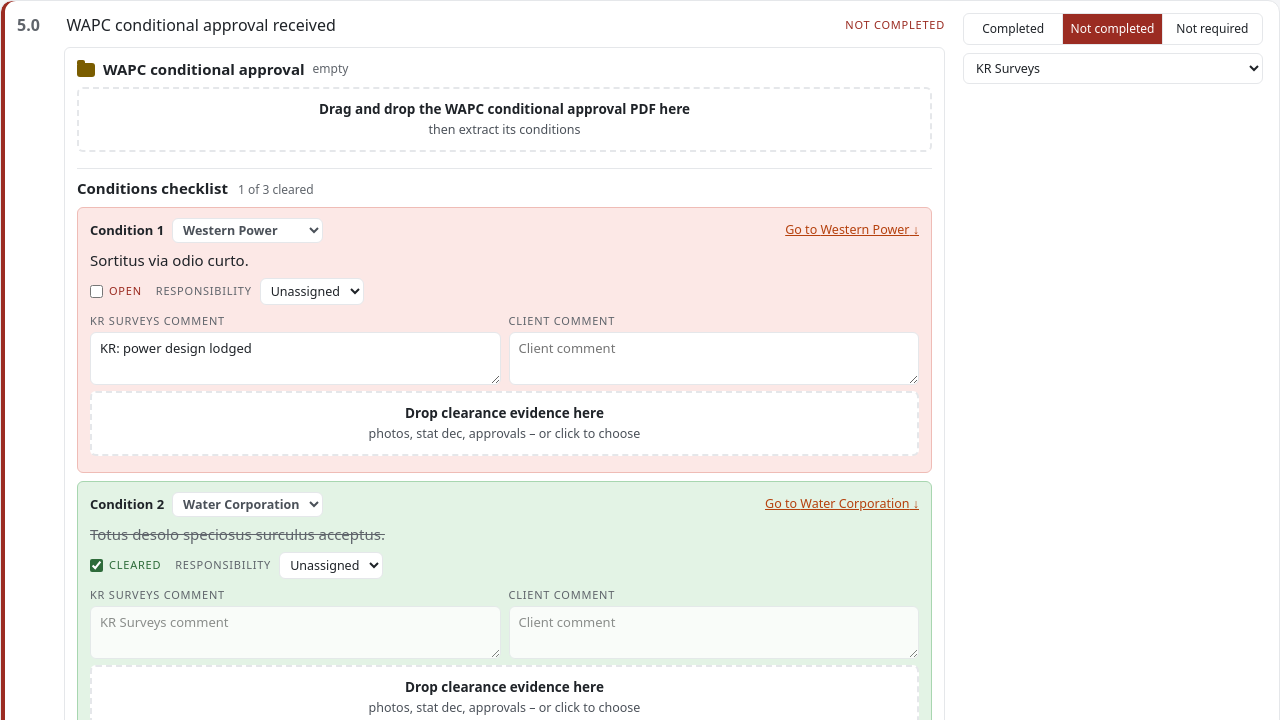
Test: who may change what on a condition (§2.1) › keeps the client comment on screen when the save is refused as stale, beside the KR comment someone else saved
This screenshot has width=1280, height=720.
Type "Client: thanks, will pay" into the 1st text box with placeholder "Client comment" at x=714, y=358, box [508,332,919,385]
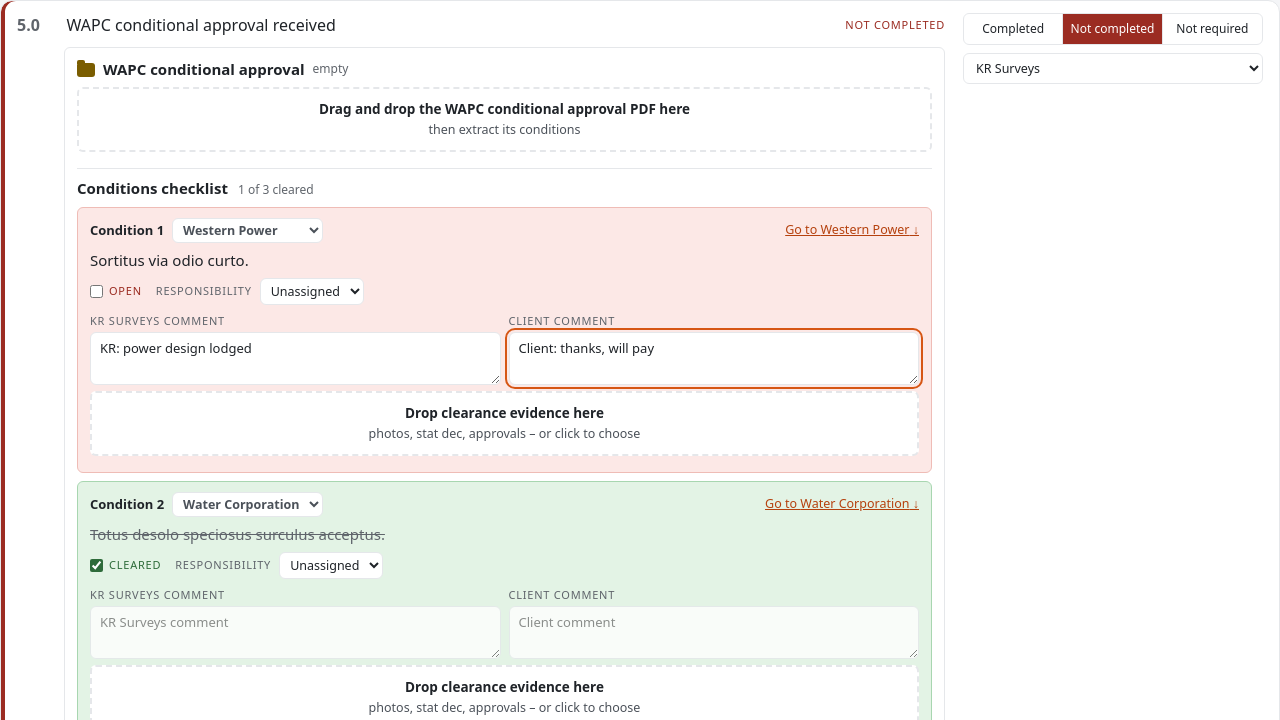
Press Tab
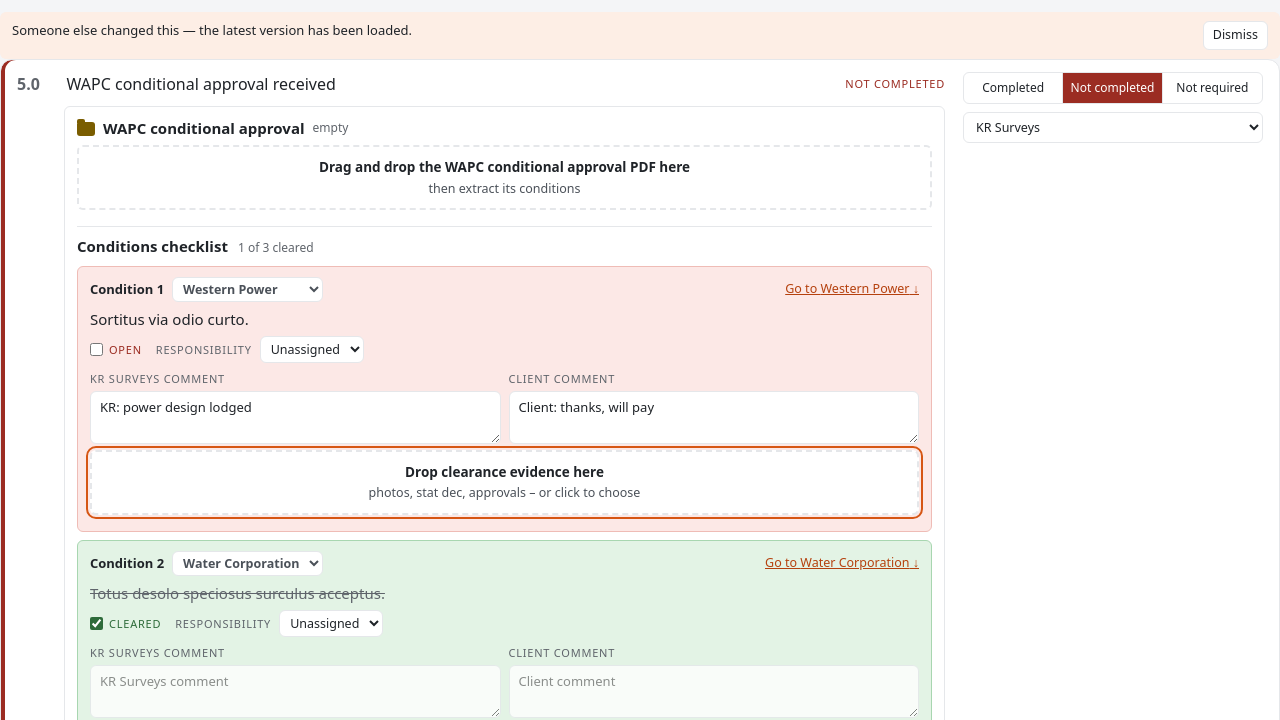
Expected: the text "Someone else changed this — the latest version has been loaded." is shown, [12,21,412,39]
